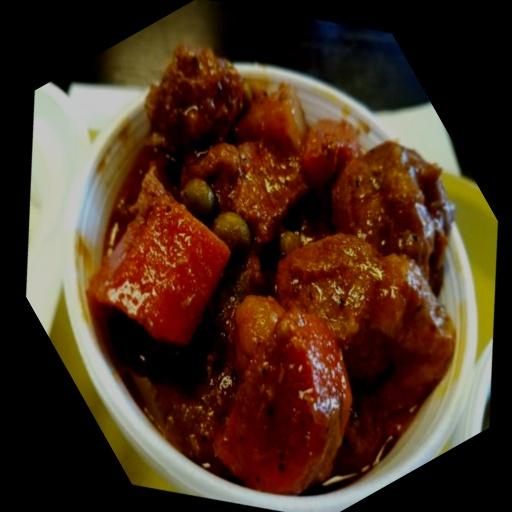pork caldereta: (101, 51, 456, 489)
